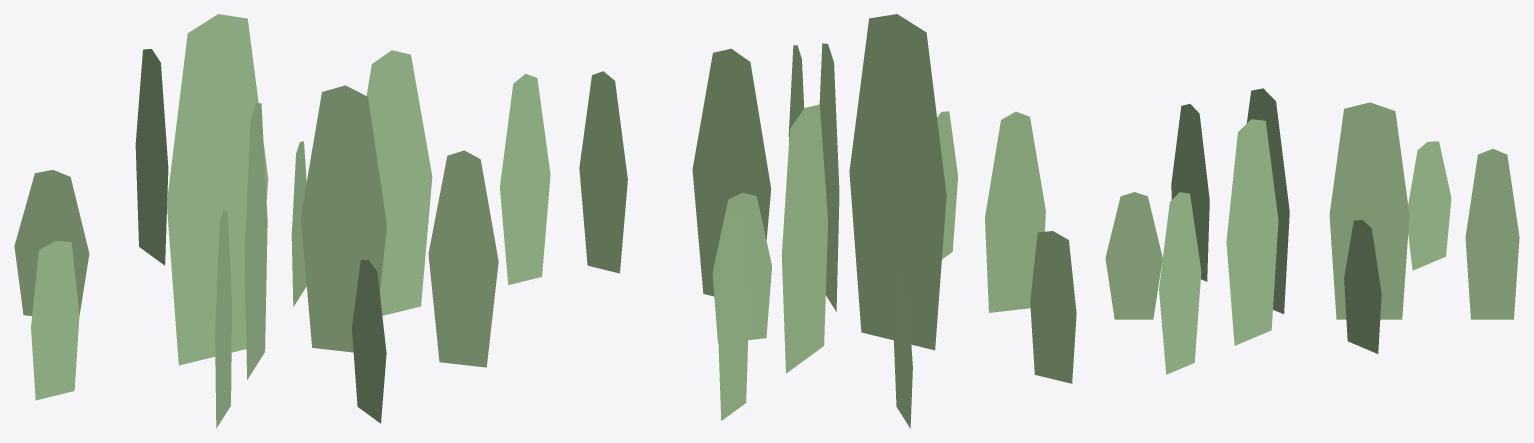
File: SOGW_Grass_1.fbx
The picture shows the model from 3 angles, left to right: view 1: azimuth 30°, elevation 25°; view 2: azimuth 150°, elevation 25°; view 3: azimuth 270°, elevation 25°; orthographic projection. The views are drawn at different scales.
Visible parts, largest first — view 1: SOGW_Grass_1; view 2: SOGW_Grass_1; view 3: SOGW_Grass_1.
Part boxes in pixels (left/top/right/bottom): SOGW_Grass_1: left=14, top=14, right=550, bottom=428; SOGW_Grass_1: left=579, top=14, right=1076, bottom=428; SOGW_Grass_1: left=1105, top=88, right=1519, bottom=374.
Size of the model in its own units: 30.57 by 19.22 by 25.58.
